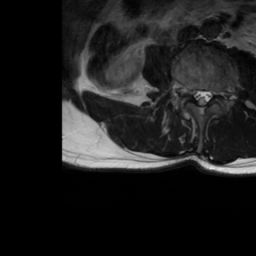CCS_stenosis: (198, 81, 205, 115)
LFS_stenosis: (213, 82, 222, 105)
LLS_normal: (205, 83, 213, 109)
RFS_stenosis: (183, 79, 191, 102)
RLS_normal: (191, 83, 198, 105)
